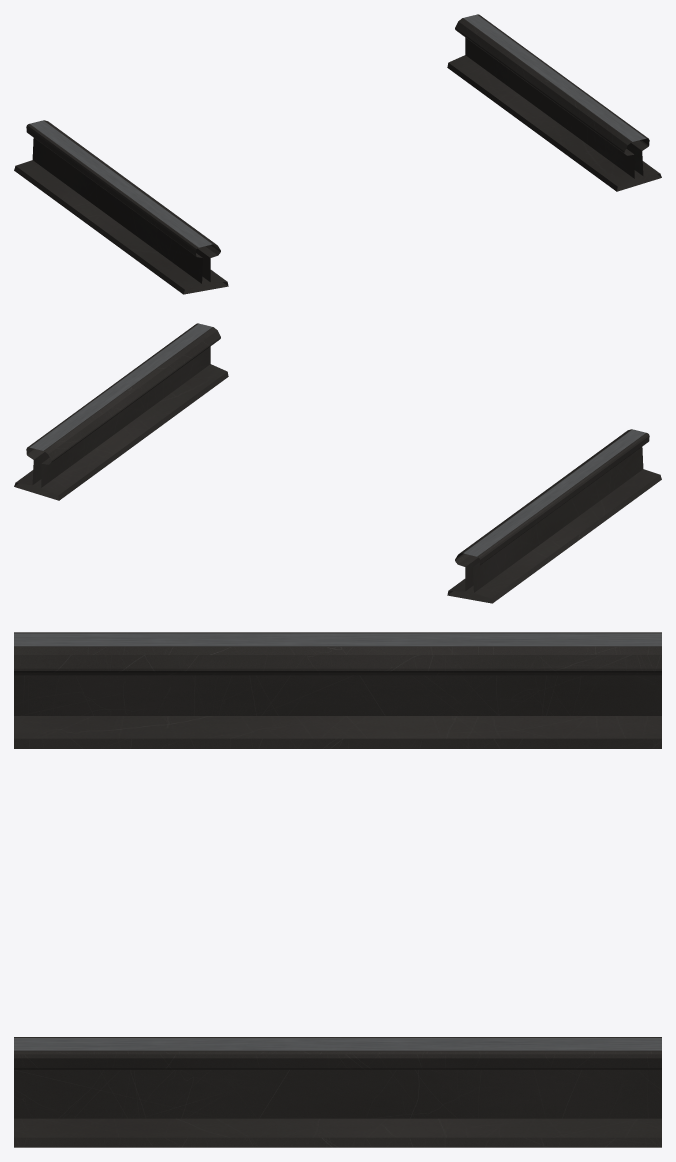
Rendered from rails.obj.
The picture shows the model from 3 angles, top to bottom: view 1: azimuth 30°, elevation 25°; view 2: azimuth 150°, elevation 25°; view 3: azimuth 270°, elevation 25°; orthographic projection. The views are drawn at different scales.
Parts seen in each view (by area): view 1: Full_LOD0_LOD0; view 2: Full_LOD0_LOD0; view 3: Full_LOD0_LOD0.
Part boxes in pixels (bbox=[...]): Full_LOD0_LOD0: bbox=[14, 14, 661, 294]; Full_LOD0_LOD0: bbox=[14, 323, 661, 603]; Full_LOD0_LOD0: bbox=[14, 632, 661, 1147].
Size of what is drawn, in the model's own units: 1.67 by 0.1531 by 1.02.
2 materials, 2 textured.
